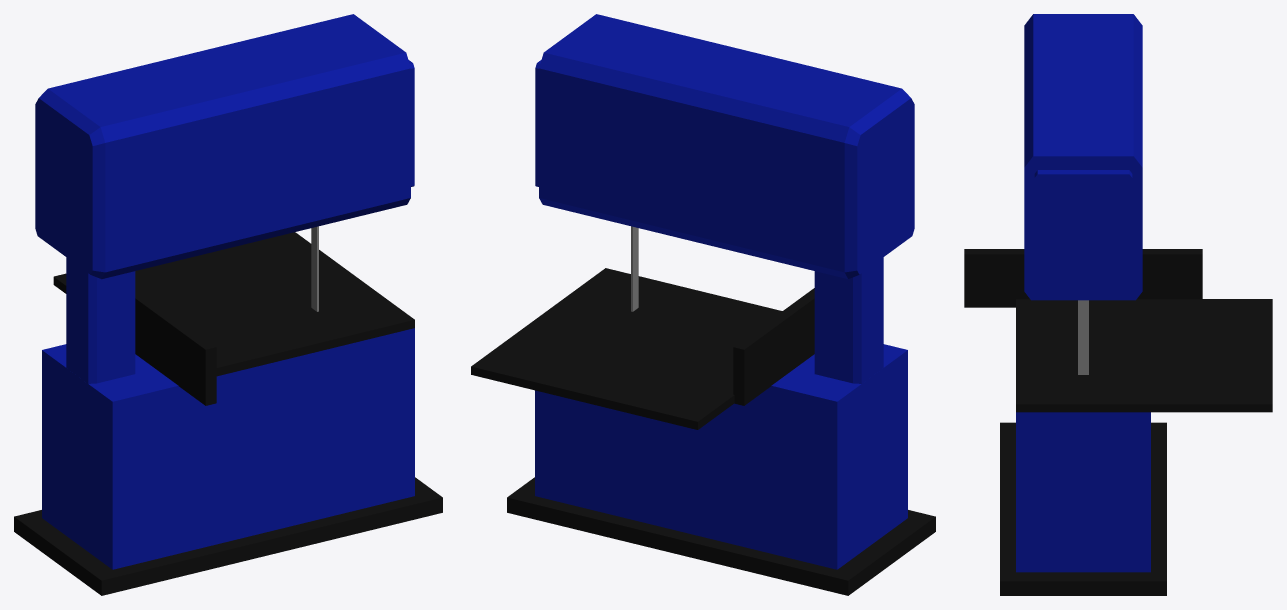
Rendered from Eletctricsega.fbx.
3 views of the same model, side by side, from view 1: azimuth 30°, elevation 25°; view 2: azimuth 150°, elevation 25°; view 3: azimuth 270°, elevation 25° (orthographic). The views are drawn at different scales.
Parts seen in each view (by area): view 1: Cube, Cube.002, Cube.001; view 2: Cube, Cube.002, Cube.001; view 3: Cube, Cube.002, Cube.001.
Part boxes in pixels (x1,y1,x2,y2): Cube: (14,14,442,595); Cube.002: (135,288,216,405); Cube.001: (311,226,318,311); Cube: (471,14,935,595); Cube.002: (733,288,814,405); Cube.001: (631,226,638,311); Cube: (1000,14,1272,595); Cube.002: (964,249,1202,307); Cube.001: (1078,300,1088,374).
Bounding box in the file's own units: 248 × 314 × 203.
